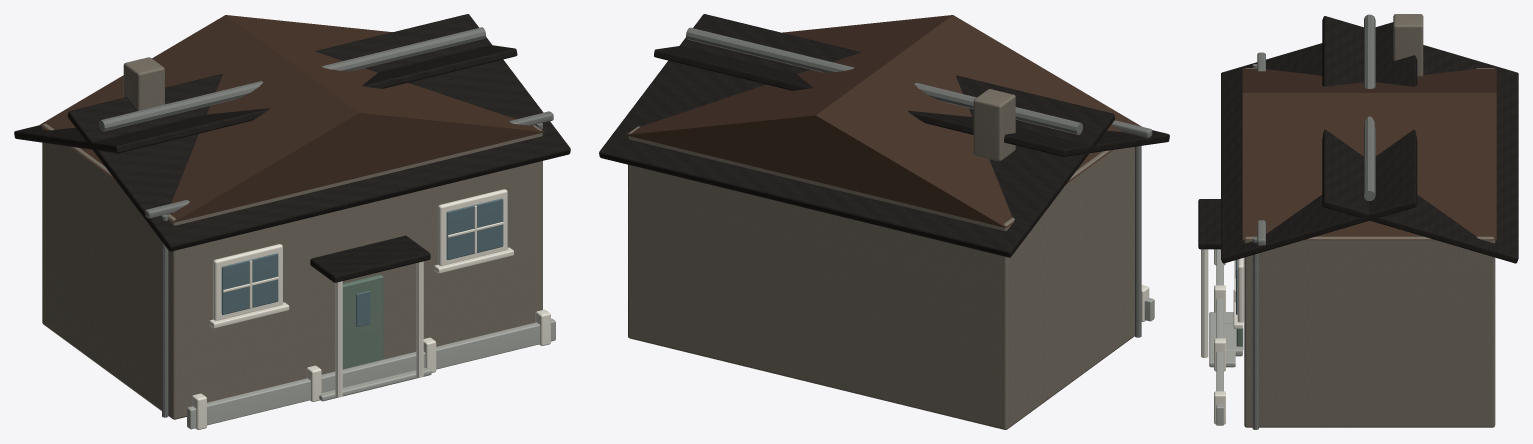
Rendered from kilmore_house_b.glb.
3 views of the same model, side by side, from view 1: azimuth 30°, elevation 25°; view 2: azimuth 150°, elevation 25°; view 3: azimuth 270°, elevation 25° (orthographic). The views are drawn at different scales.
Visible parts, largest first — view 1: SM_Kilmore_HouseFacade_B_CombinedMesh; view 2: SM_Kilmore_HouseFacade_B_CombinedMesh; view 3: SM_Kilmore_HouseFacade_B_CombinedMesh.
Boxes of the visible parts, x1,y1,x2,y2 form: SM_Kilmore_HouseFacade_B_CombinedMesh: (14, 14, 570, 429); SM_Kilmore_HouseFacade_B_CombinedMesh: (599, 14, 1169, 429); SM_Kilmore_HouseFacade_B_CombinedMesh: (1198, 14, 1518, 429).
Bounding box in the file's own units: 9.2 × 6.05 × 6.63.
8 materials, 3 textured.
